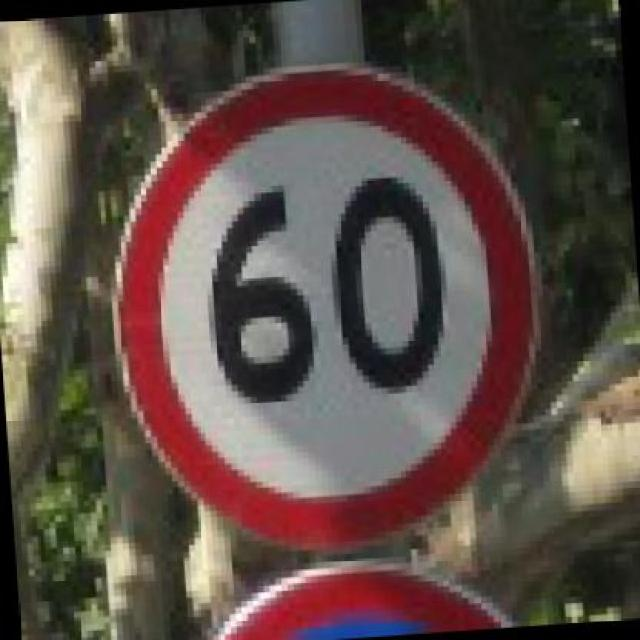Limite-60: (107, 61, 545, 560)
